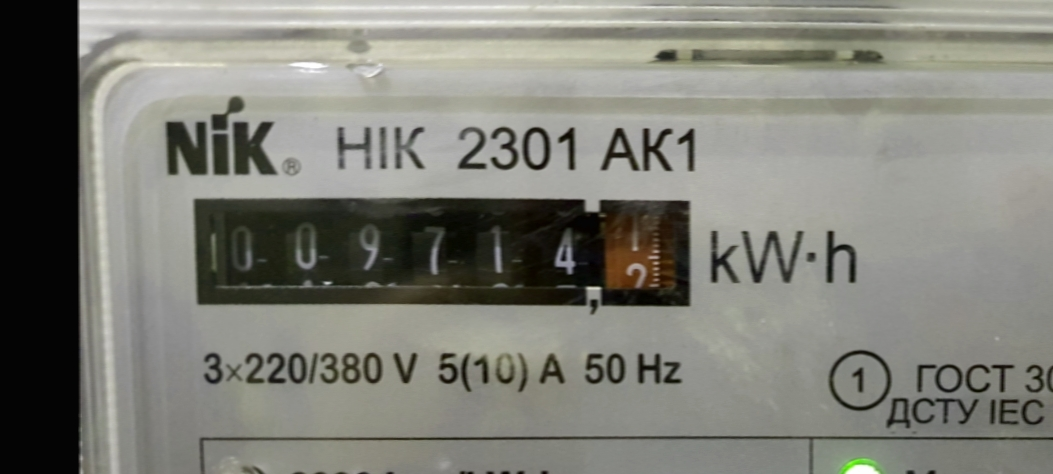0: (228, 222, 257, 276), (293, 219, 319, 272)
1: (487, 221, 509, 277), (627, 212, 642, 255)
2: (625, 260, 649, 290)
4: (551, 225, 580, 279)
7: (422, 224, 448, 278)
9: (355, 221, 383, 274)
screen: (179, 183, 708, 327)
